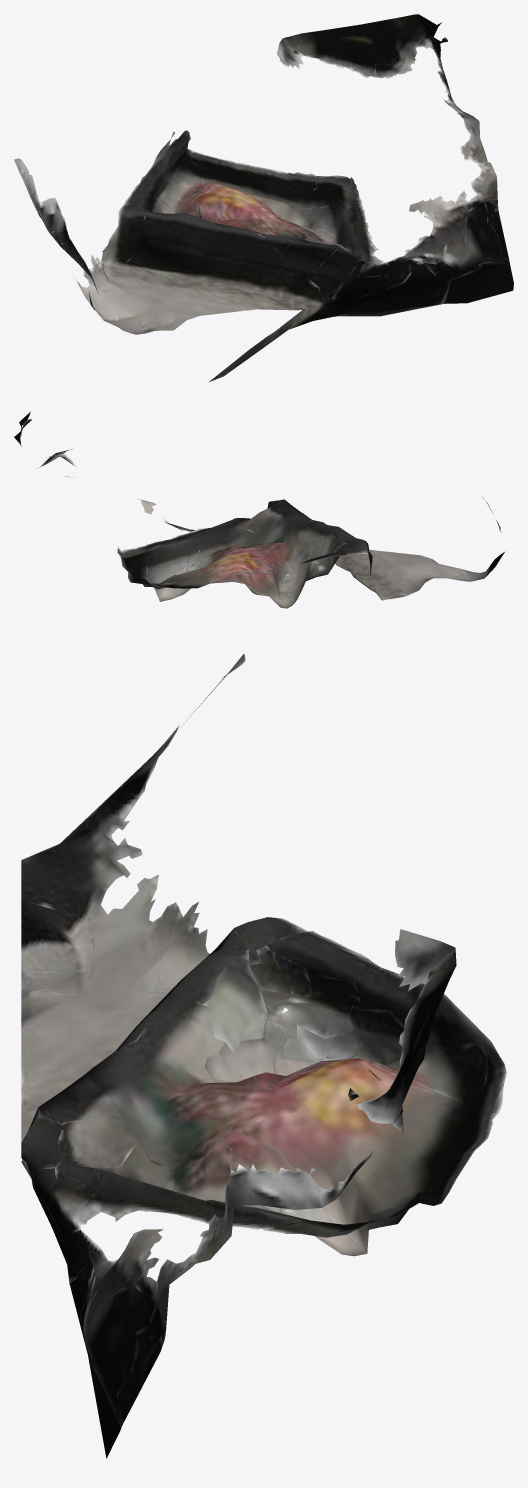
File: hall.glb
3 views of the same model, one above another, from view 1: azimuth 30°, elevation 25°; view 2: azimuth 150°, elevation 25°; view 3: azimuth 270°, elevation 25° (orthographic). The views are drawn at different scales.
Bounding box in the file's own units: 0.8852 × 0.3969 × 0.4343.
Materials: 1 (1 with a texture image).
